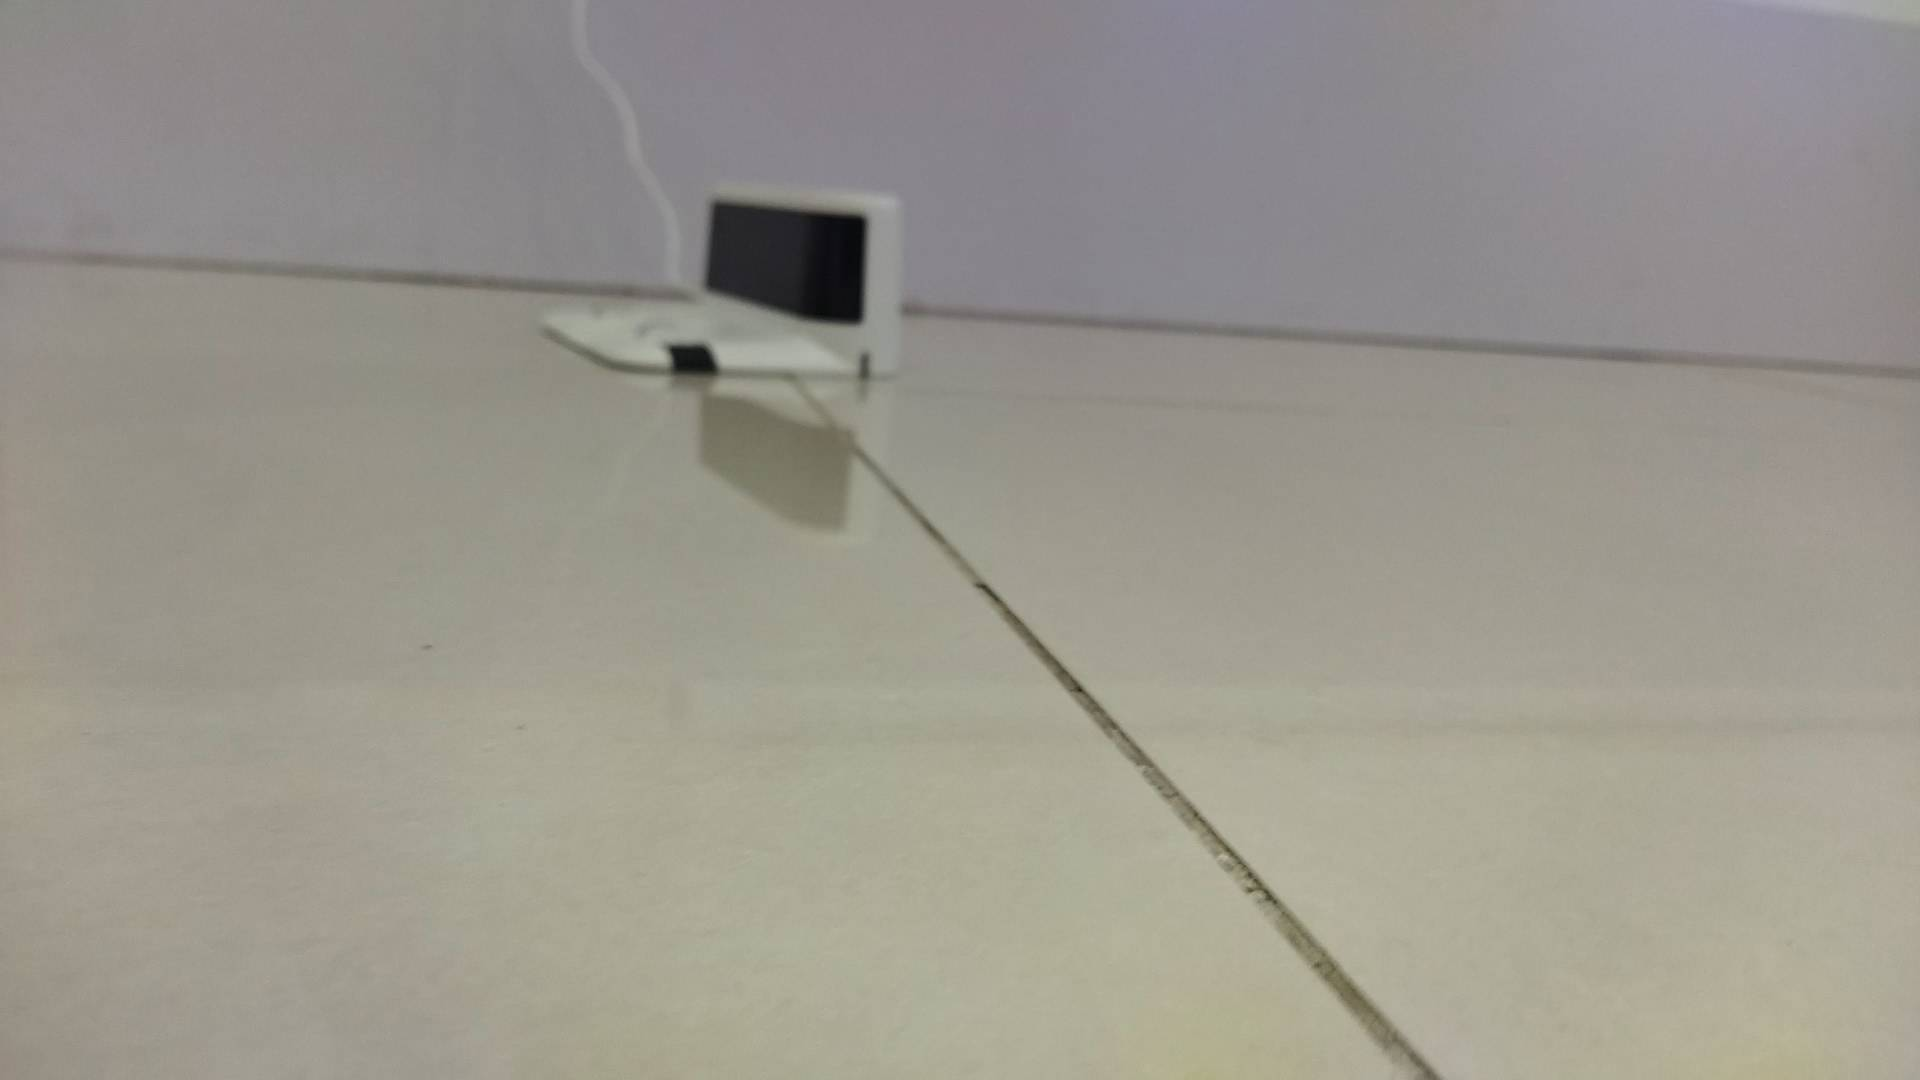recharge seat: (539, 179, 907, 377)
